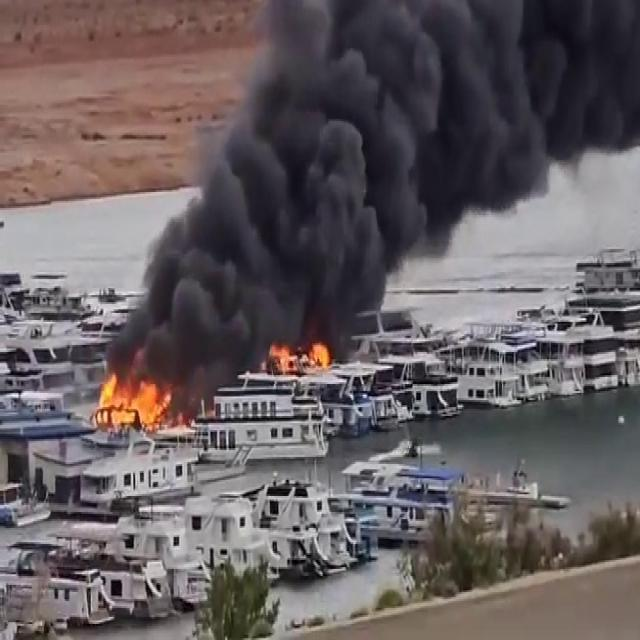Fire: (90, 364, 177, 432), (267, 331, 333, 377)
Smoke: (119, 0, 640, 362)
